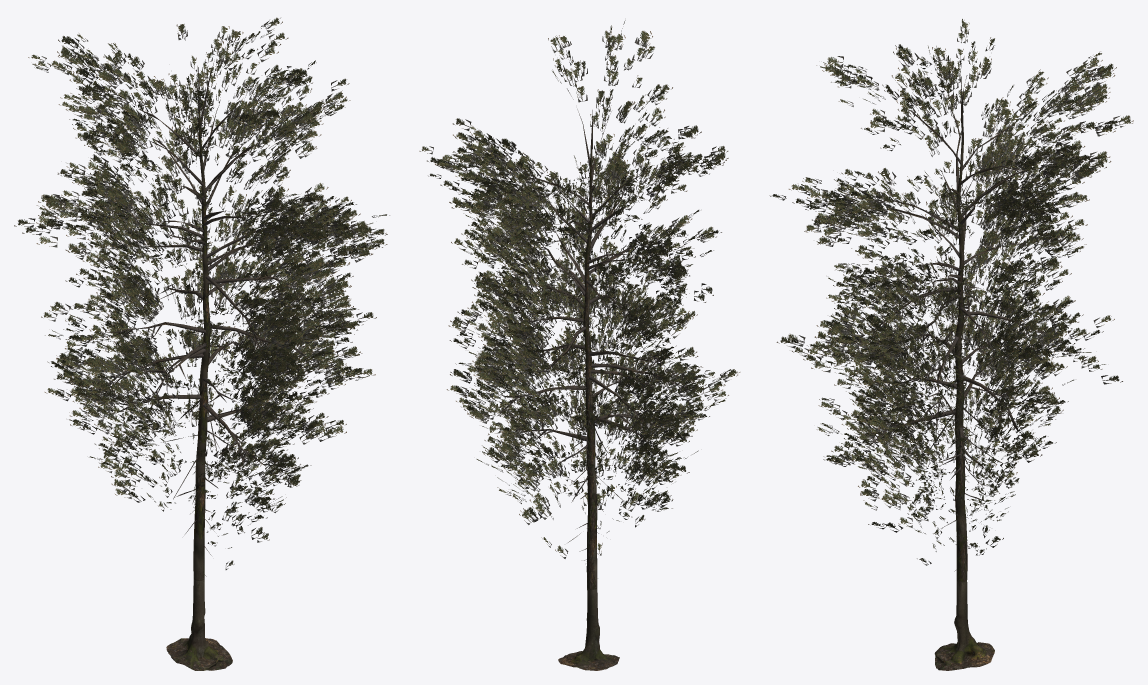
Rendered from pine.glb.
The picture shows the model from 3 angles, left to right: view 1: azimuth 30°, elevation 25°; view 2: azimuth 150°, elevation 25°; view 3: azimuth 270°, elevation 25°; orthographic projection. The views are drawn at different scales.
Parts seen in each view (by area): view 1: ph-pine-b-mid; view 2: ph-pine-b-mid; view 3: ph-pine-b-mid.
Part boxes in pixels (box(x1,y1,x2,y2)): ph-pine-b-mid: box(14, 17, 389, 670); ph-pine-b-mid: box(419, 20, 740, 670); ph-pine-b-mid: box(769, 19, 1133, 670).
Bounding box in the file's own units: 7.23 × 14.51 × 7.59.
4 materials, 4 textured.
